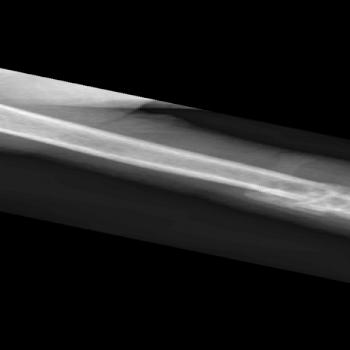Fracture: (276, 176, 350, 220)
